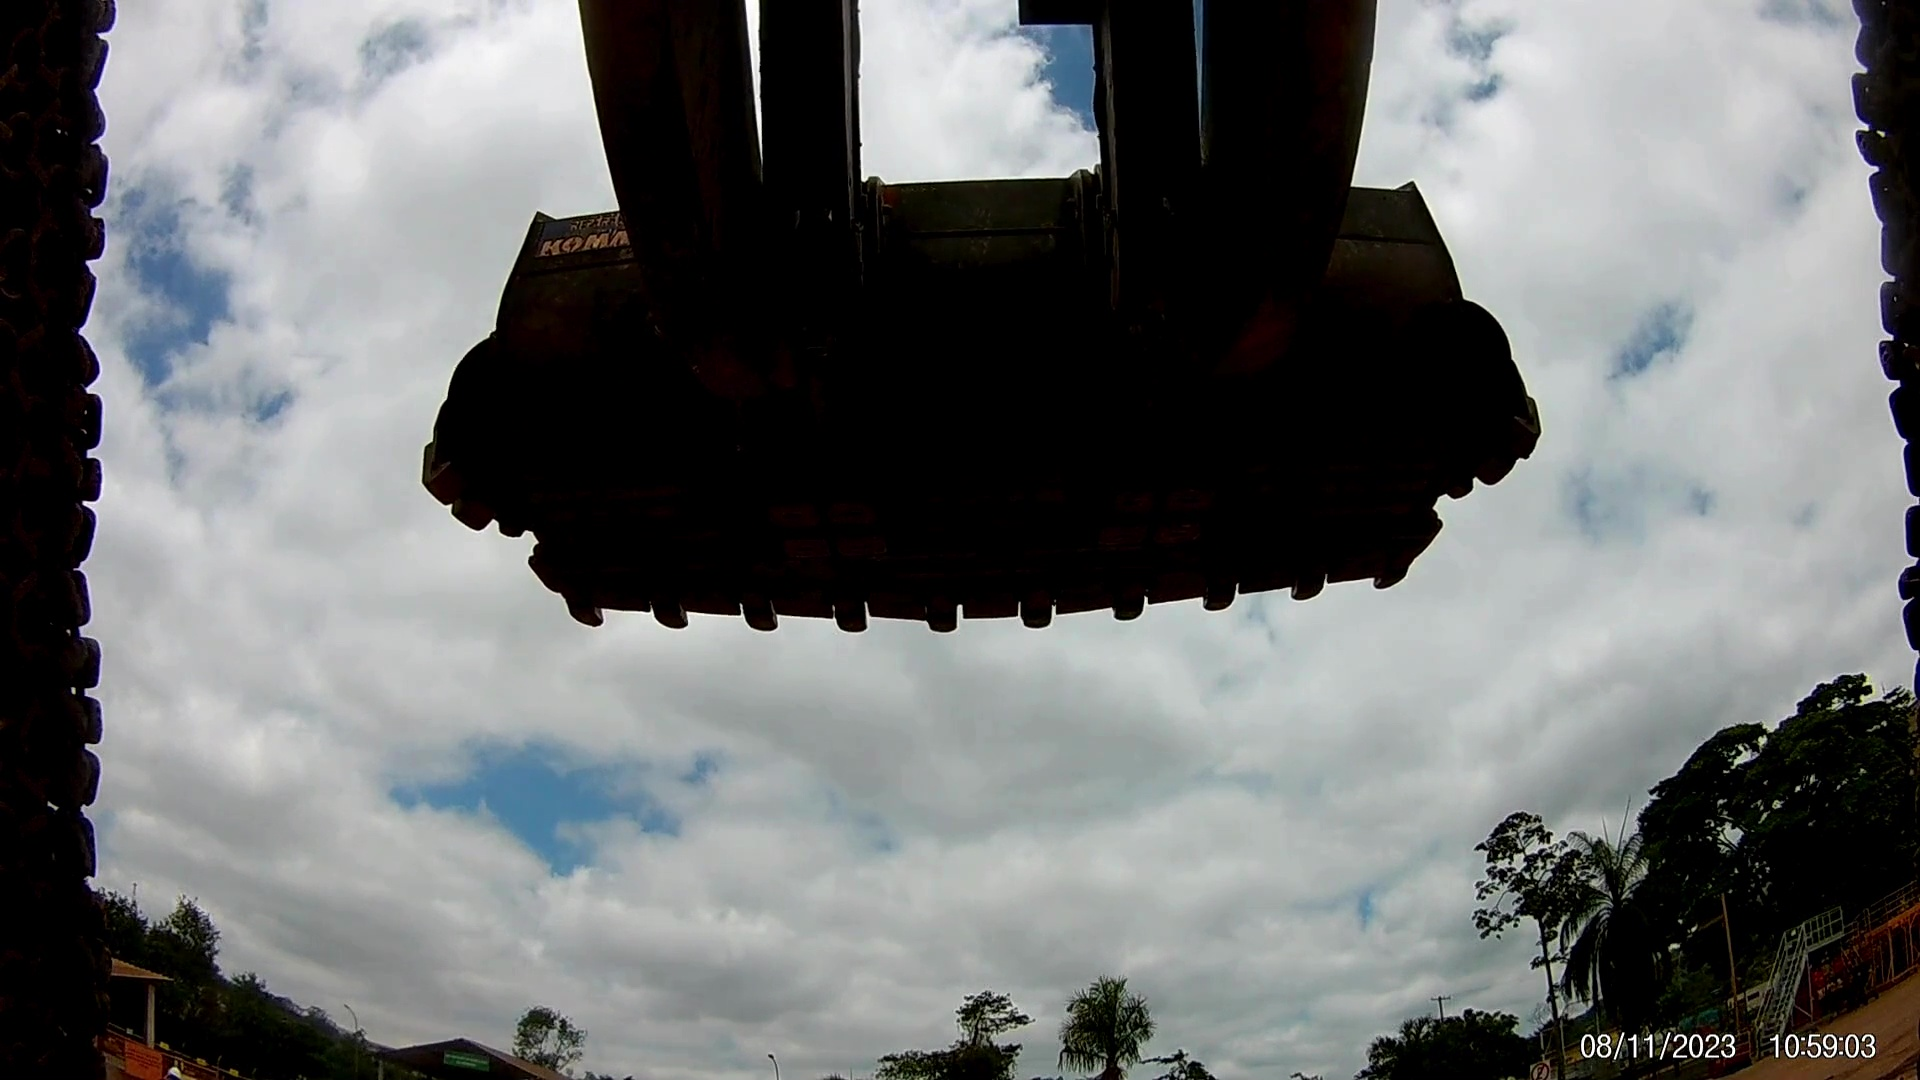FPS: (1001, 562, 1068, 655), (531, 582, 618, 653), (918, 556, 971, 657), (1282, 545, 1342, 629), (823, 574, 880, 655), (737, 574, 793, 655), (644, 582, 704, 655), (1116, 549, 1163, 638), (1375, 535, 1427, 611), (1216, 550, 1249, 634)
